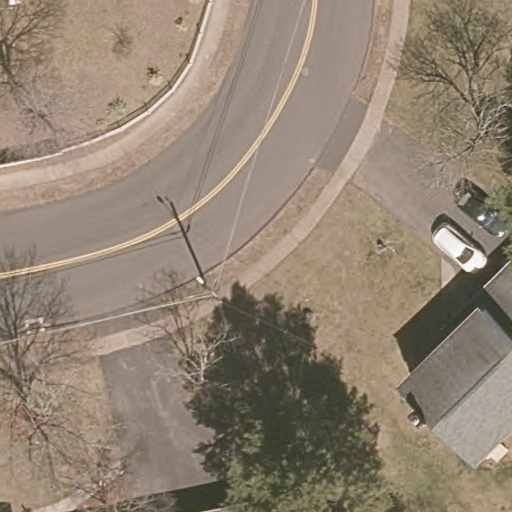DT: (195, 275, 220, 301)
